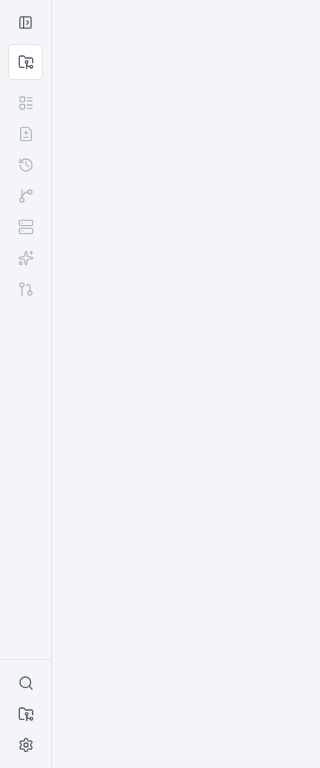
Test: Sidebar › collapses by itself in a narrow window and can be expanded
The width and height of the screenshot is (320, 768).
Click the button named "Expand sidebar".
click(26, 22)  # box [14,10,38,34]
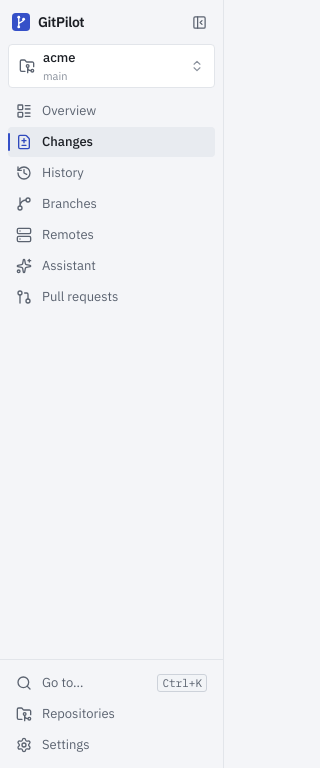
Check: the button named "Collapse sidebar" is shown, box [187,10,211,34]
